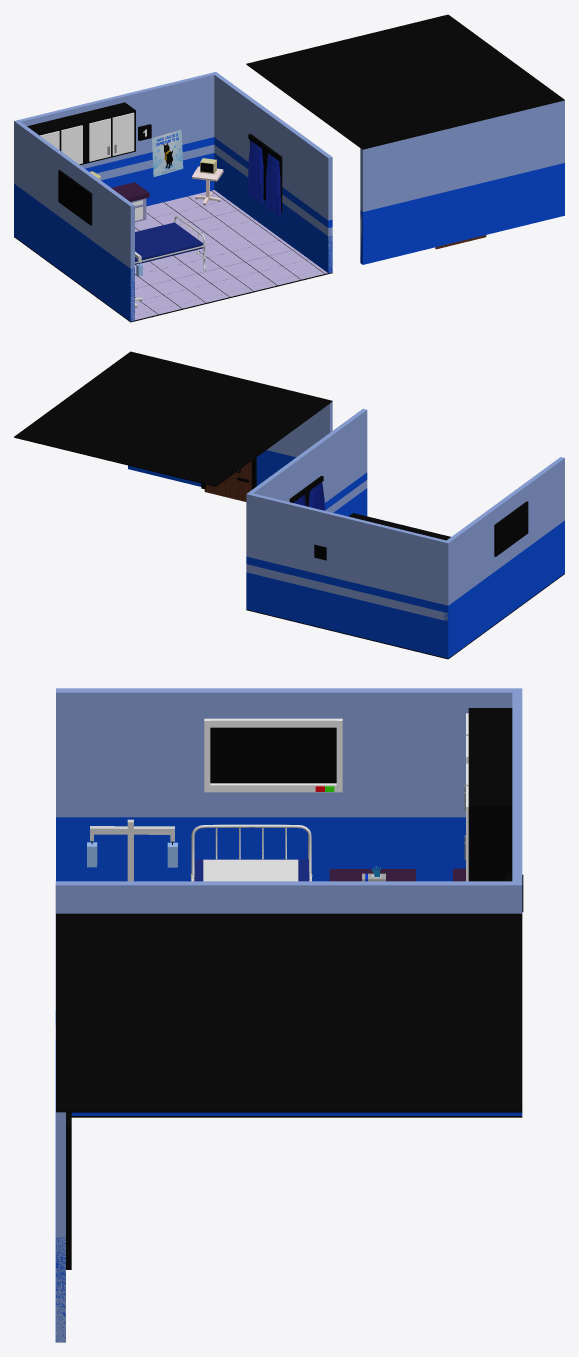
Rendered from Animal_hospital.fbx.
3 renders of one model, top to bottom at view 1: azimuth 30°, elevation 25°; view 2: azimuth 150°, elevation 25°; view 3: azimuth 270°, elevation 25°, orthographic. The views are drawn at different scales.
Parts seen in each view (by area): view 1: Cube.008, Cube.166, Cube.007, Cube.005, Cube, Cube.101, Plane, Cube.001, Cube.157, Cube.089, Cube.090, Cube.130 (+7 smaller); view 2: Cube.166, Cube, Cube.007, Cube.005, Cube.008, Cube.157, Cube.161, Cube.001; view 3: Cube.166, Cube.007, Cube.005, Cube.157, Cube.089, Cube.151, Cube.008, Cube, Cube.086, Cube.102, Object_2.074, Cube.162 (+3 smaller).
Part boxes in pixels (x1,y1,x2,y2): Cube.008: (360, 100, 564, 264); Cube.166: (246, 14, 564, 149); Cube.007: (14, 120, 134, 321); Cube.005: (214, 73, 332, 273); Cube: (14, 72, 217, 206); Cube.101: (135, 222, 203, 264); Plane: (152, 129, 183, 176); Cube.001: (14, 190, 332, 322); Cube.157: (58, 170, 92, 225); Cube.089: (74, 102, 135, 163); Cube.090: (112, 112, 134, 155); Cube.130: (248, 140, 263, 204); Cube.166: (14, 351, 332, 486); Cube: (246, 492, 450, 658); Cube.007: (444, 457, 564, 658); Cube.005: (246, 409, 367, 573); Cube.008: (128, 401, 332, 486); Cube.157: (494, 501, 528, 556); Cube.161: (204, 461, 251, 501); Cube.001: (246, 573, 564, 659); Cube.166: (56, 913, 522, 1112); Cube.007: (56, 688, 522, 881); Cube.005: (55, 881, 522, 1115); Cube.157: (210, 727, 336, 783); Cube.089: (468, 755, 512, 881); Cube.151: (204, 718, 342, 792); Cube.008: (55, 1040, 65, 1342); Cube: (512, 688, 522, 913); Cube.086: (468, 708, 512, 758); Cube.102: (203, 859, 298, 881); Object_2.074: (190, 824, 312, 881); Cube.162: (66, 1112, 71, 1269).
Bounding box in the file's own units: 947 × 249 × 439.
Materials: 50 (2 with a texture image).
